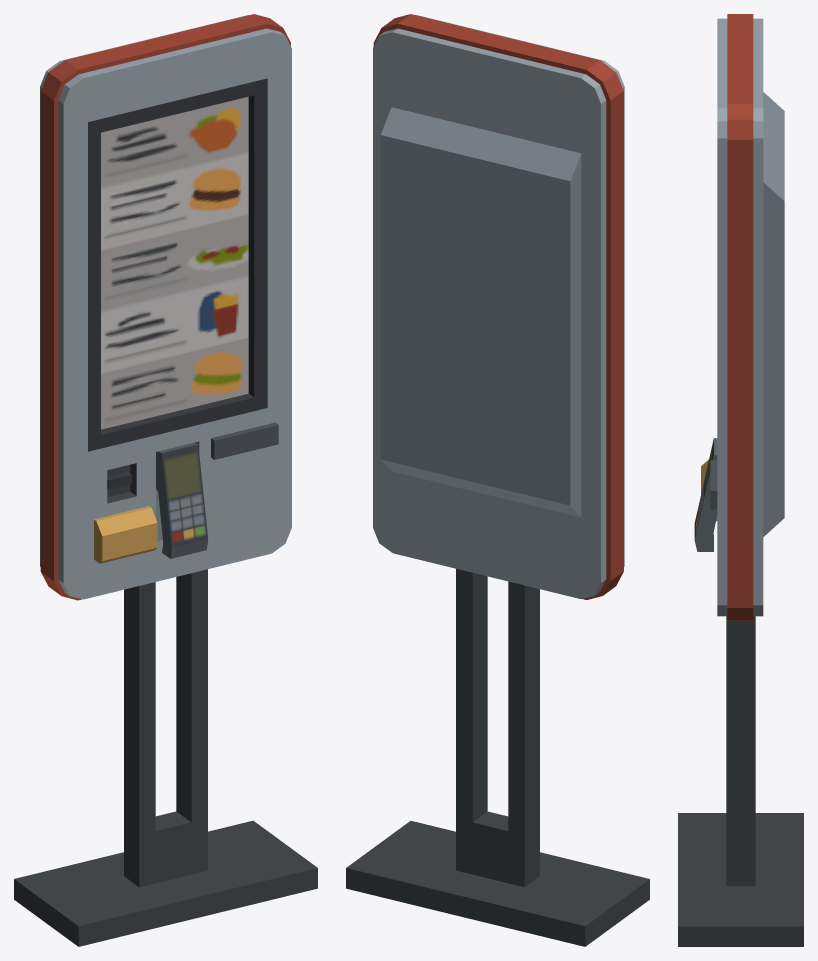
The model's file is SM_Prop_Kitchen_Self_Serve_Machine_01.obj.
3 renders of one model, left to right at view 1: azimuth 30°, elevation 25°; view 2: azimuth 150°, elevation 25°; view 3: azimuth 270°, elevation 25°, orthographic. The views are drawn at different scales.
Parts seen in each view (by area): view 1: SM_Prop_Kitchen_Self_Serve_Machine_01_0; view 2: SM_Prop_Kitchen_Self_Serve_Machine_01_0; view 3: SM_Prop_Kitchen_Self_Serve_Machine_01_0.
Part boxes in pixels (<box>): SM_Prop_Kitchen_Self_Serve_Machine_01_0: <box>14,14,317,946</box>; SM_Prop_Kitchen_Self_Serve_Machine_01_0: <box>346,14,649,946</box>; SM_Prop_Kitchen_Self_Serve_Machine_01_0: <box>678,14,803,946</box>.
Bounding box in the file's own units: 0.6001 × 2.04 × 0.2808.
Materials: 1 (1 with a texture image).
